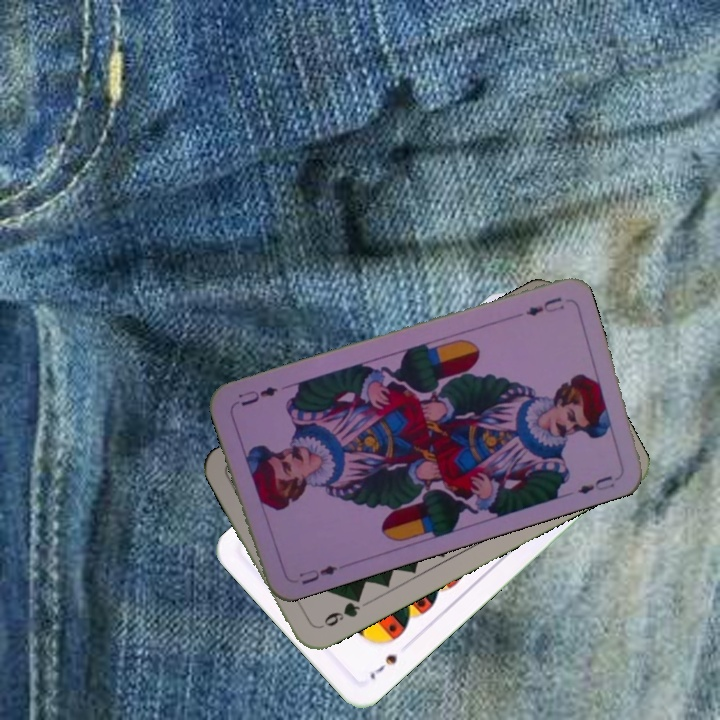EU: (521, 292, 567, 319), (295, 561, 340, 588)
G9: (313, 591, 364, 632)
S7: (365, 650, 401, 683)
